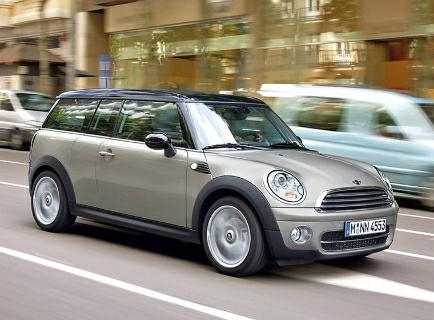MINI CLUBMAN: (21, 90, 407, 274), (253, 84, 434, 194)
